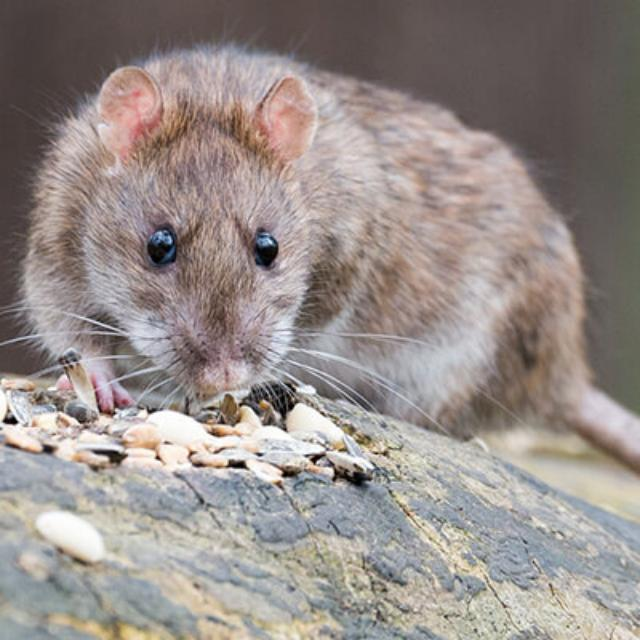rat: (0, 22, 616, 456)
